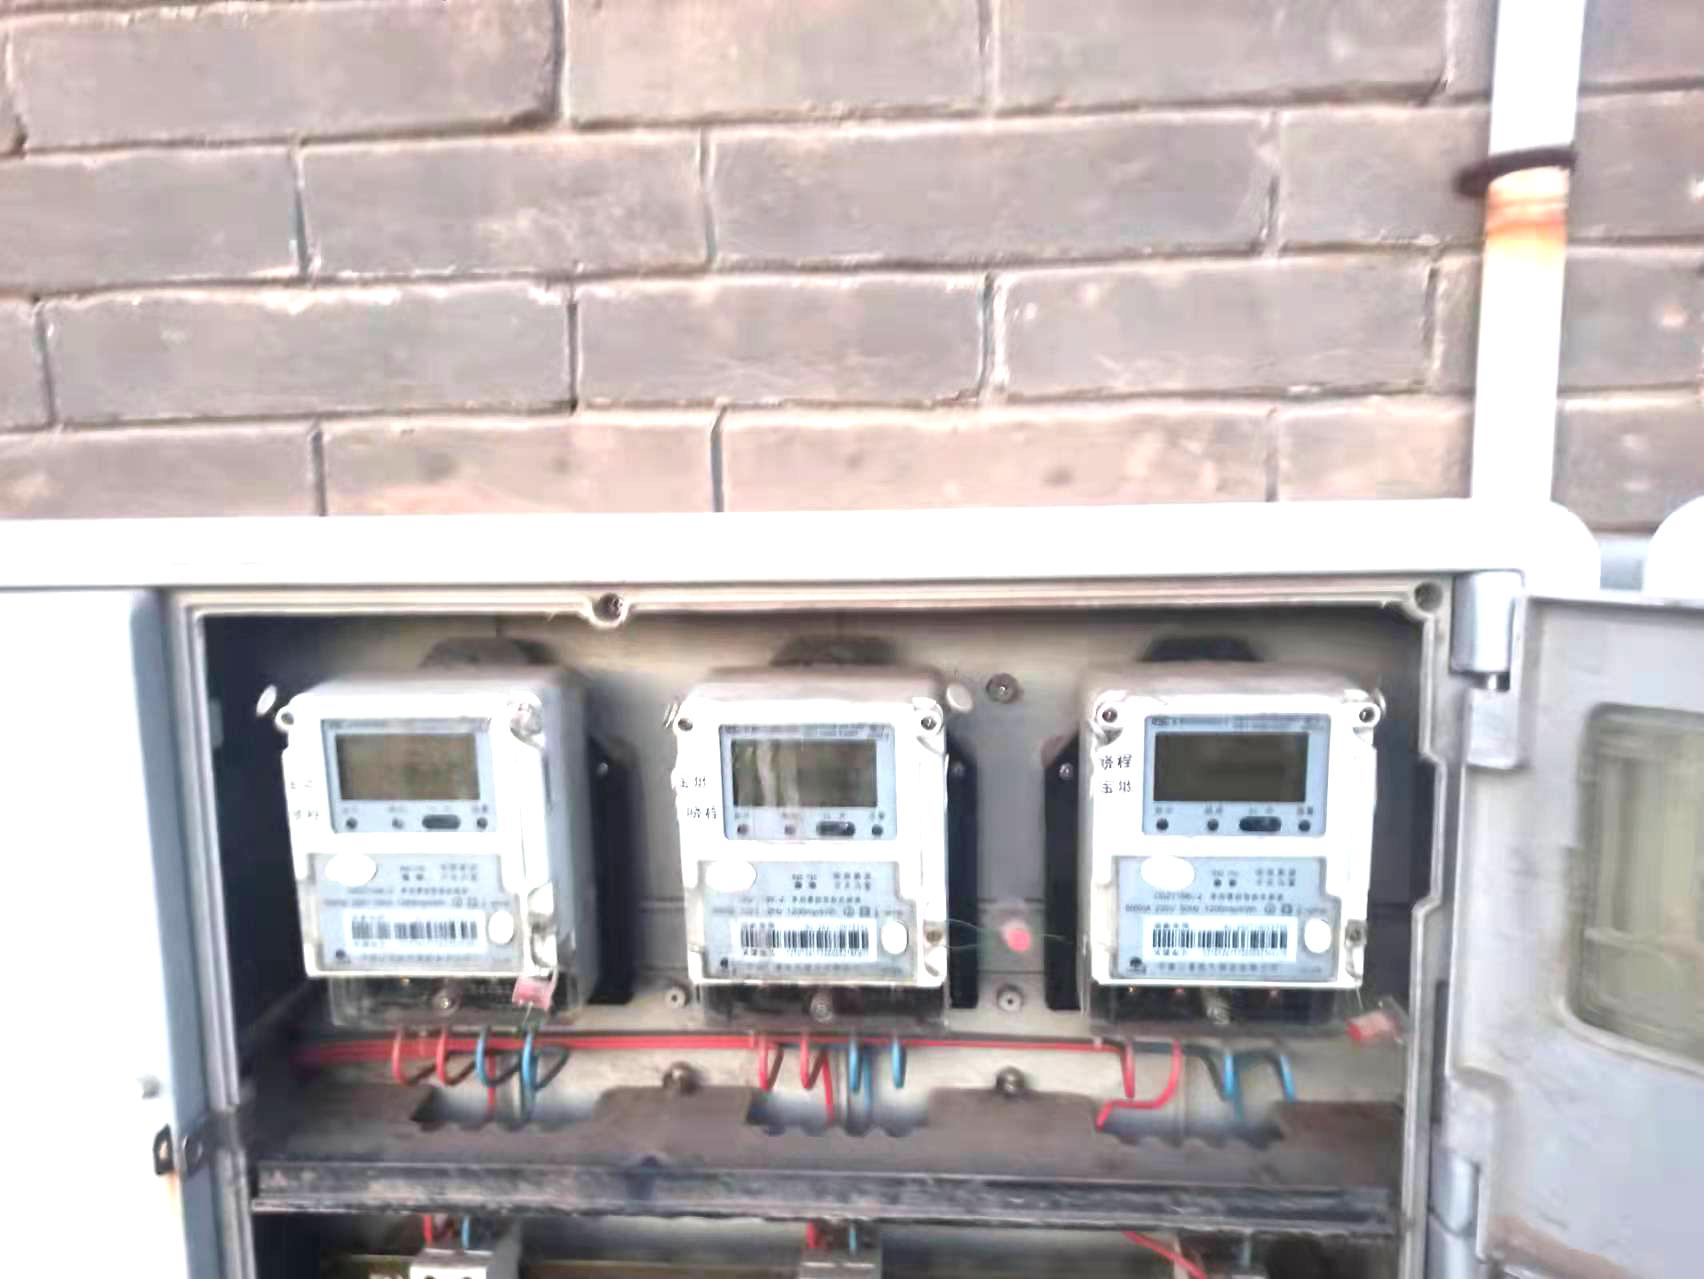digital: (1090, 687, 1372, 985), (278, 695, 555, 973), (675, 705, 945, 979)
